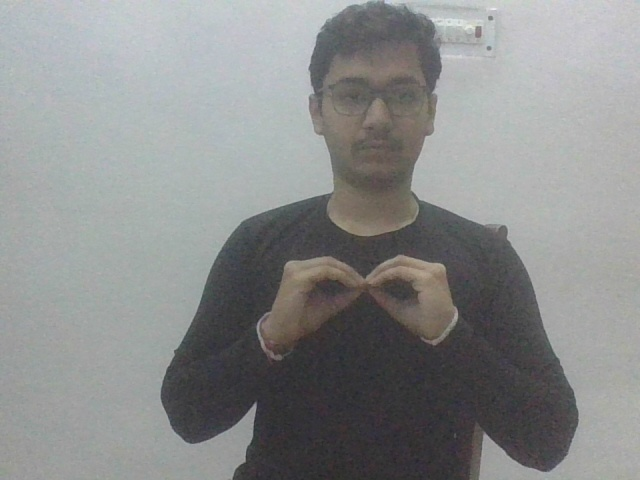B: (266, 253, 458, 347)
